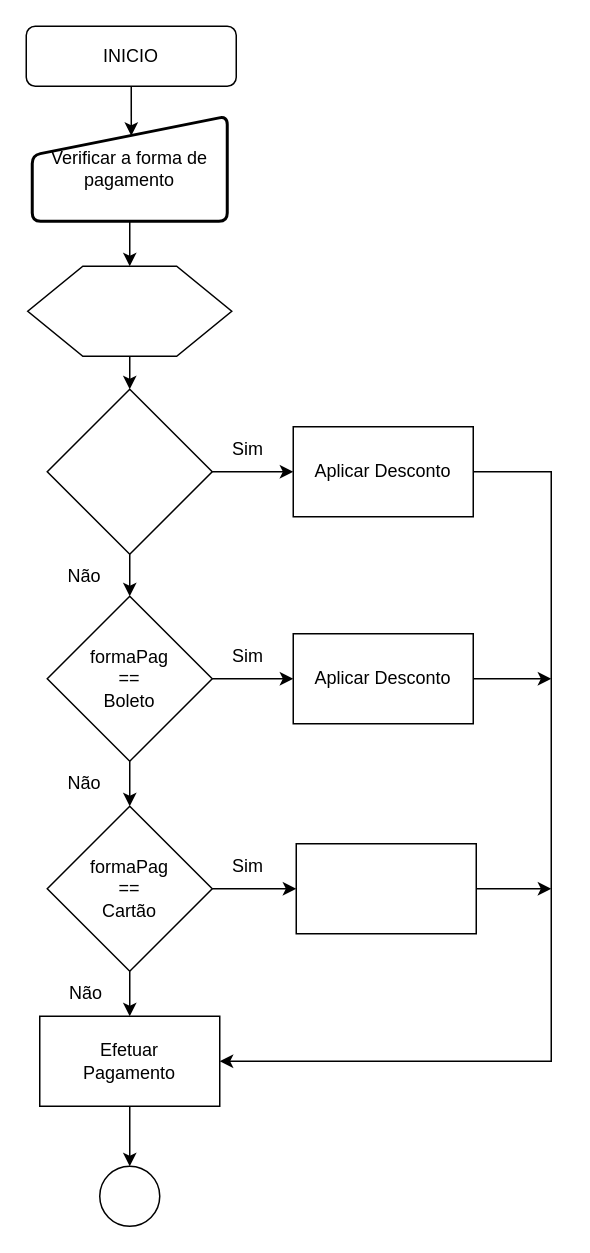
This 590x1253 diagram has some shape labels left out. Here are the shapes that lost their labels. From the top down, the centre of each, then its label:
point (129, 310): formaPag ← input
point (129, 471): formaPag == PIX
point (385, 888): Não possui desconto
